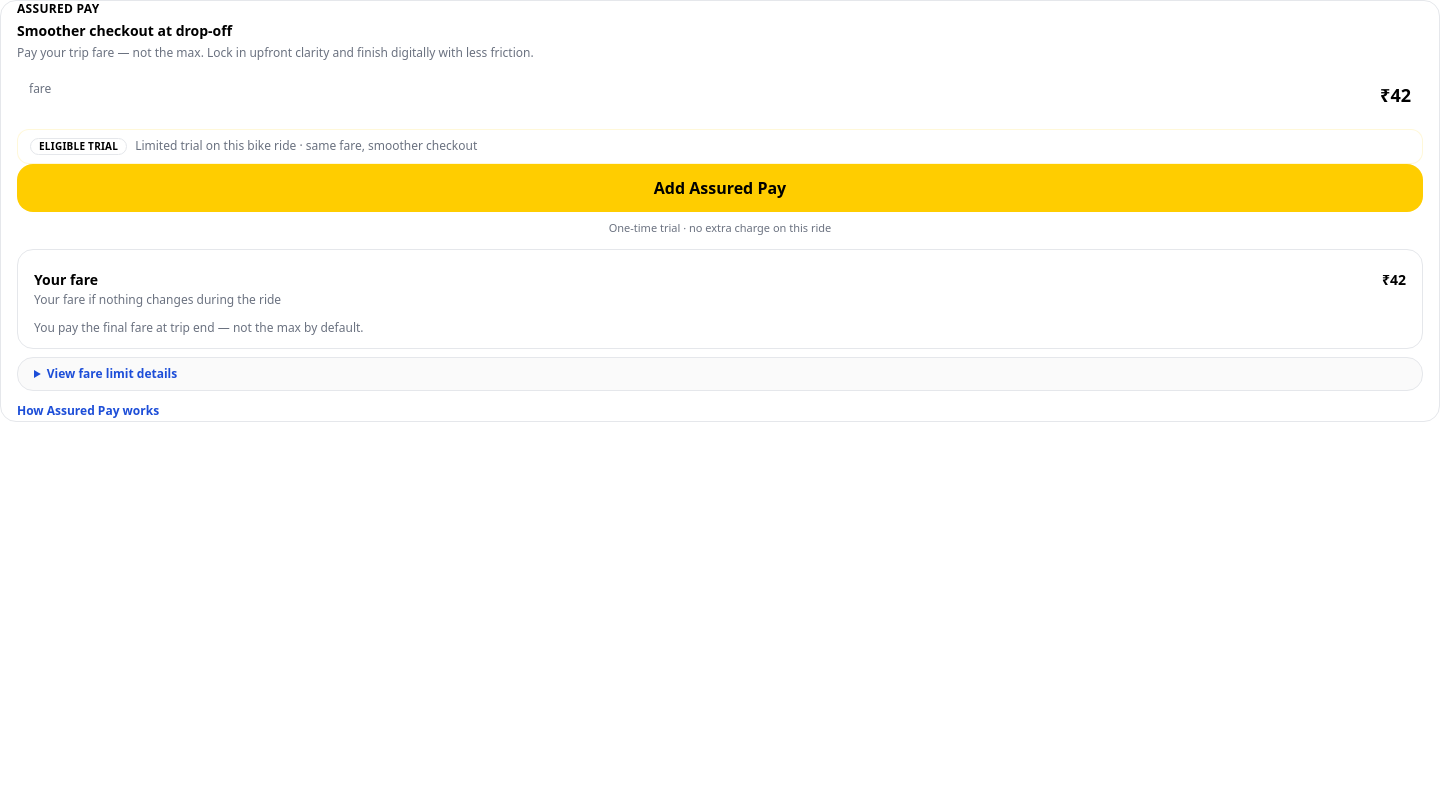
it: AssuredPayBookingCard › shows CTA and opens learn-more modal
The image size is (1440, 810).
Expected: the text with test id "assured-pay-module-headline" shows "Smoother checkout", [17,21,232,40]
Expected: the text with test id "assured-pay-module-helper" shows "not the max", [17,44,534,61]
Click the button with test id "learn-more-assured-pay" at (88, 410), box [17,402,159,418]
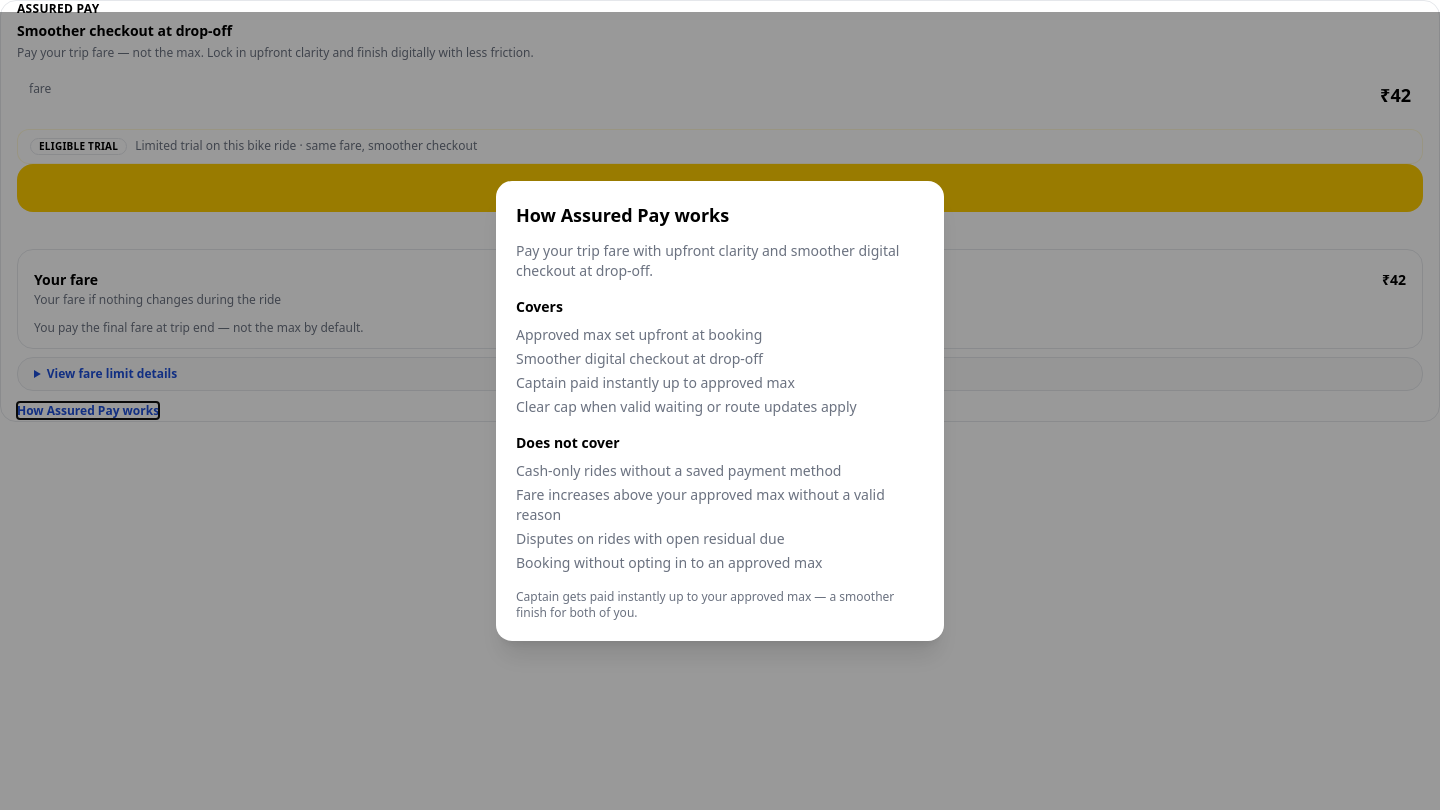
Expected: the element with test id "assured-pay-explanation-modal" is shown, [516,241,924,621]
